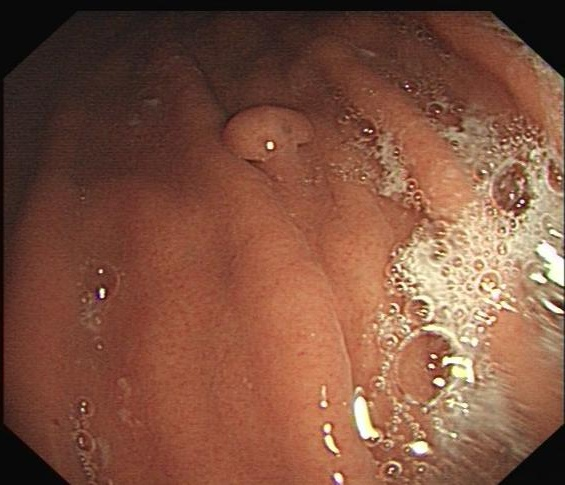Polyp: (193, 80, 334, 179)
